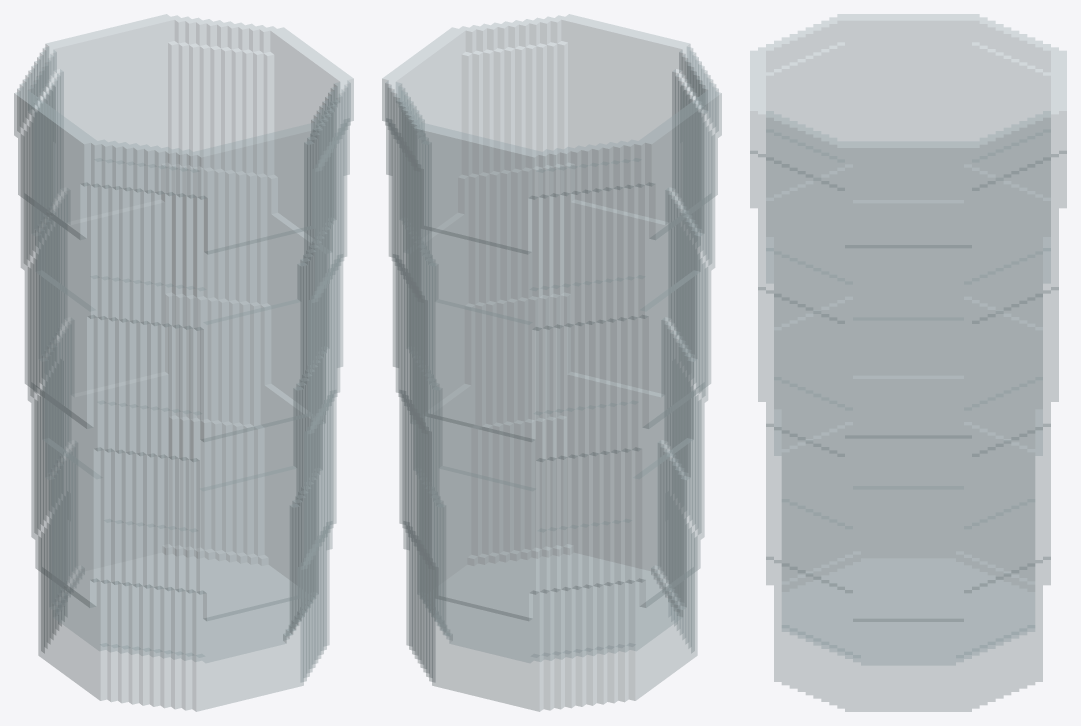
The model's file is glass.glb.
3 views of the same model, side by side, from view 1: azimuth 30°, elevation 25°; view 2: azimuth 150°, elevation 25°; view 3: azimuth 270°, elevation 25° (orthographic).
Parts seen in each view (by area): view 1: glass:compound; view 2: glass:compound; view 3: glass:compound.
Part boxes in pixels (x1=…): glass:compound: x1=14, y1=14, x2=353, y2=711; glass:compound: x1=382, y1=14, x2=721, y2=711; glass:compound: x1=750, y1=14, x2=1066, y2=711.
Bounding box in the file's own units: 0.08 × 0.16 × 0.08.
